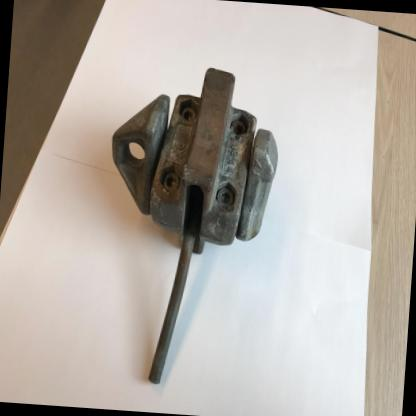Twistlock: (92, 55, 288, 394)
